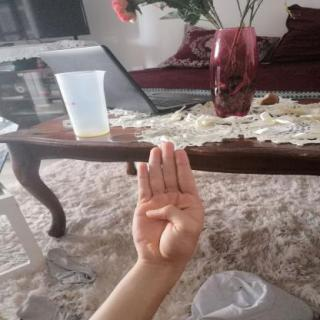KAAF: (119, 136, 217, 274)
